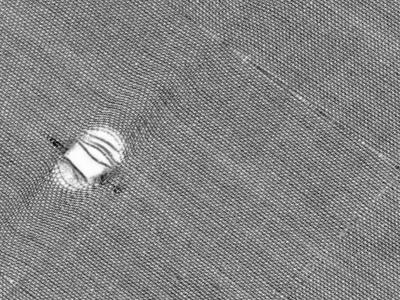hole: (46, 120, 130, 195)
